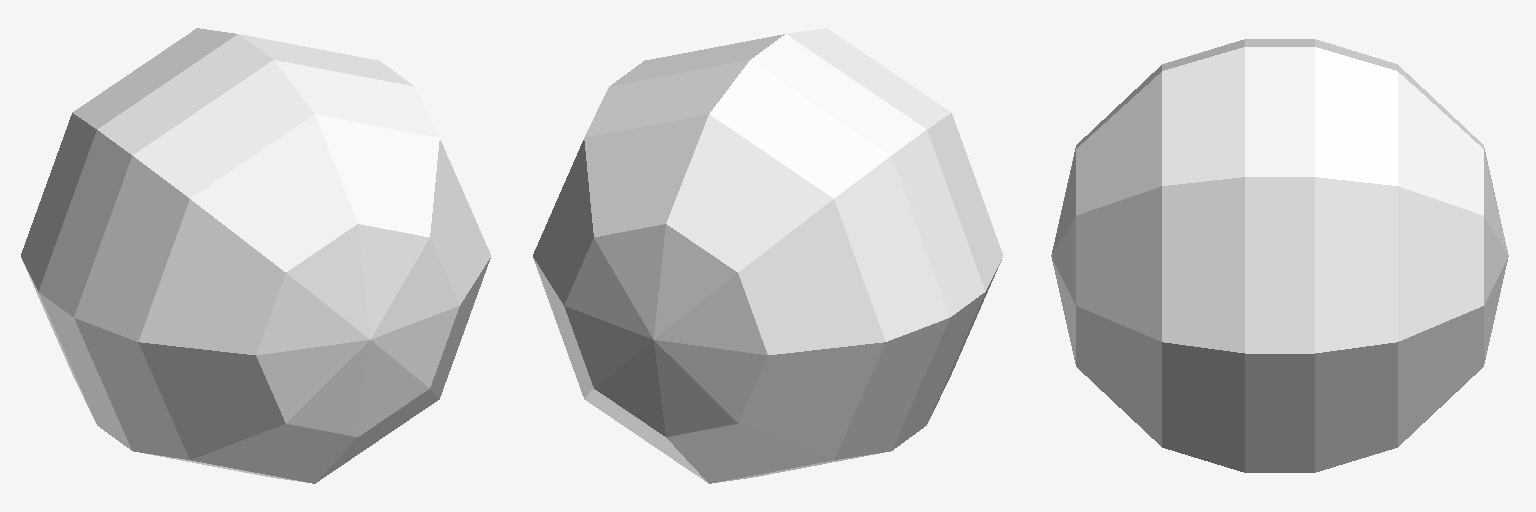
File: globe3.obj
3 renders of one model, left to right at view 1: azimuth 30°, elevation 25°; view 2: azimuth 150°, elevation 25°; view 3: azimuth 270°, elevation 25°, orthographic.
Parts seen in each view (by area): view 1: frm-Reciever; view 2: frm-Reciever; view 3: frm-Reciever.
Part boxes in pixels (left/top/right/bottom): frm-Reciever: left=21, top=28, right=490, bottom=483; frm-Reciever: left=533, top=28, right=1002, bottom=483; frm-Reciever: left=1051, top=39, right=1508, bottom=472.
Size of the model in its own units: 14695 by 14695 by 14568.